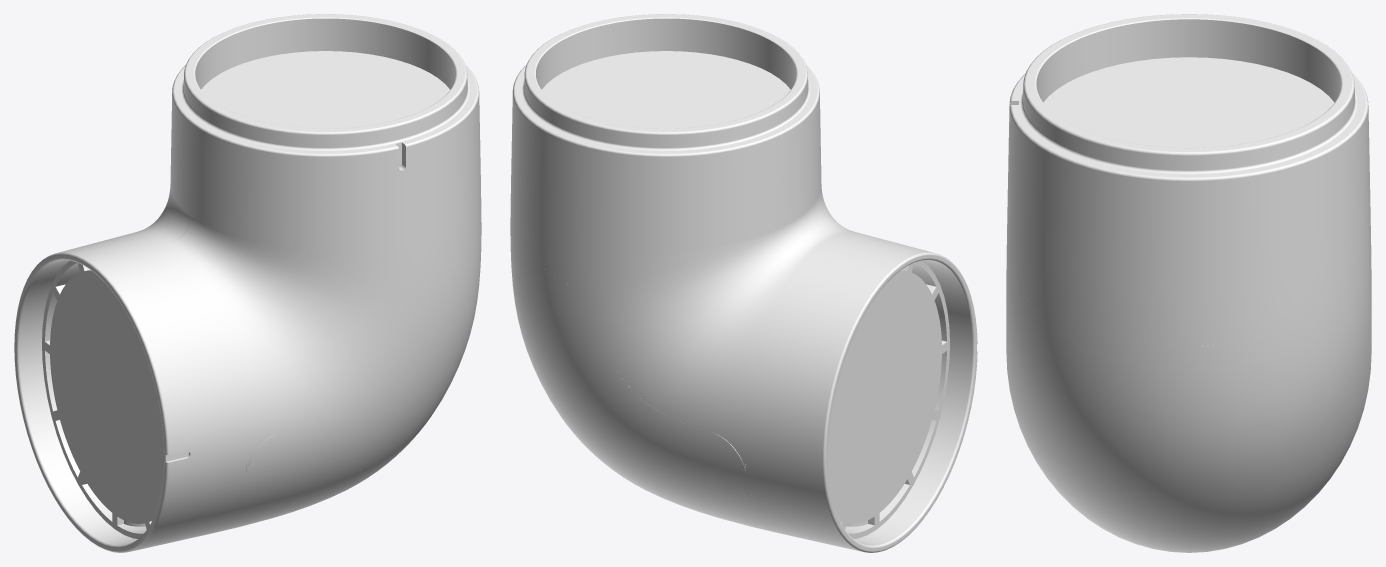
File: joint5.dae
3 renders of one model, left to right at view 1: azimuth 30°, elevation 25°; view 2: azimuth 150°, elevation 25°; view 3: azimuth 270°, elevation 25°, orthographic. The views are drawn at different scales.
Parts seen in each view (by area): view 1: a0ec2a07-c575-44a5-9e27-ecb947ec1cf5, cde9bf4d-7a70-42a0-91fd-7f276ccb1d5e, a0df5e7a-1778-406a-8936-30c9d1380801; view 2: a0ec2a07-c575-44a5-9e27-ecb947ec1cf5, cde9bf4d-7a70-42a0-91fd-7f276ccb1d5e, a0df5e7a-1778-406a-8936-30c9d1380801; view 3: cde9bf4d-7a70-42a0-91fd-7f276ccb1d5e, a0df5e7a-1778-406a-8936-30c9d1380801, a0ec2a07-c575-44a5-9e27-ecb947ec1cf5.
Part boxes in pixels (x1,y1,x2,y2): a0ec2a07-c575-44a5-9e27-ecb947ec1cf5: (14, 184, 481, 552); cde9bf4d-7a70-42a0-91fd-7f276ccb1d5e: (170, 14, 480, 248); a0df5e7a-1778-406a-8936-30c9d1380801: (208, 232, 481, 534); a0ec2a07-c575-44a5-9e27-ecb947ec1cf5: (510, 184, 977, 552); cde9bf4d-7a70-42a0-91fd-7f276ccb1d5e: (511, 14, 821, 248); a0df5e7a-1778-406a-8936-30c9d1380801: (510, 232, 783, 534); cde9bf4d-7a70-42a0-91fd-7f276ccb1d5e: (1007, 14, 1370, 288); a0df5e7a-1778-406a-8936-30c9d1380801: (1006, 283, 1371, 552); a0ec2a07-c575-44a5-9e27-ecb947ec1cf5: (1006, 213, 1371, 346).
Size of the model in its own units: 0.0528 by 0.0386 by 0.0563.
Materials: 1 (1 with a texture image).
